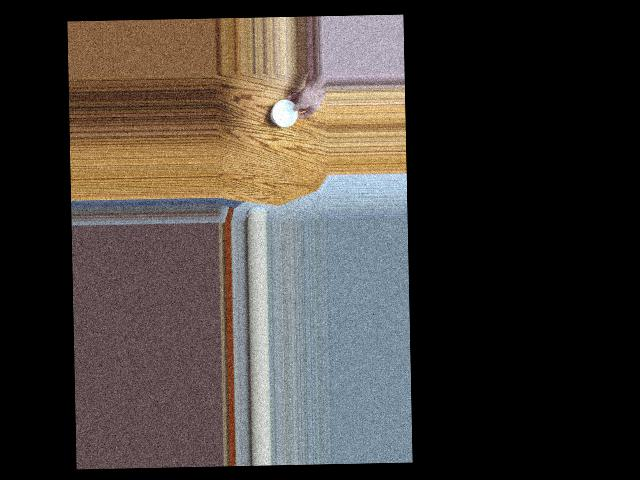cotage: (270, 97, 303, 133)
